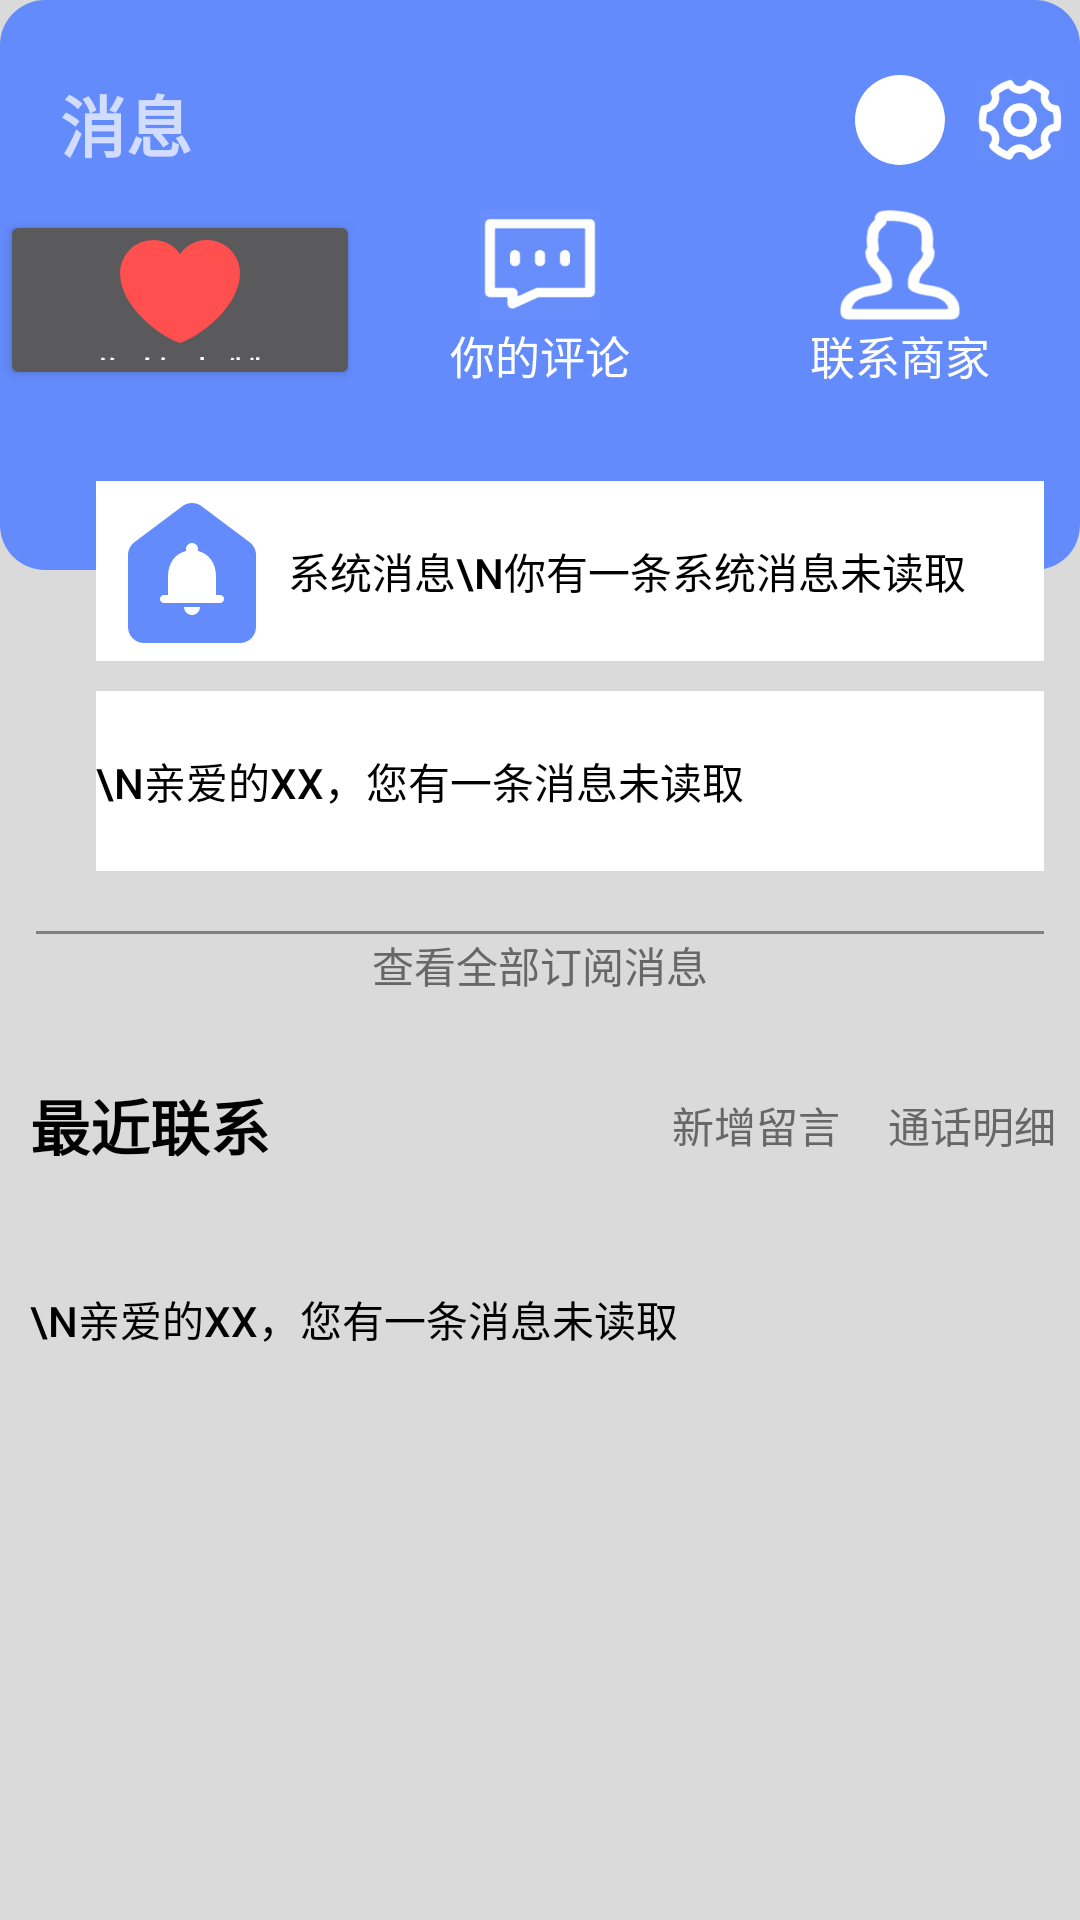

Icon bounding boxes for this 1080x1920 phone screenshot, format (x1, y1, x2, y2):
setting: (978, 80, 1061, 160)
